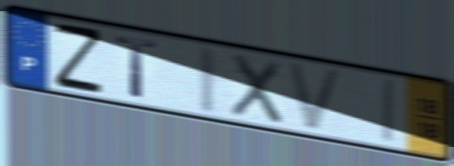I: (196, 43, 219, 117), (380, 76, 399, 147)
T: (114, 33, 162, 101)
V: (284, 58, 347, 135)
X: (227, 50, 285, 128)
Z: (51, 20, 106, 96)
